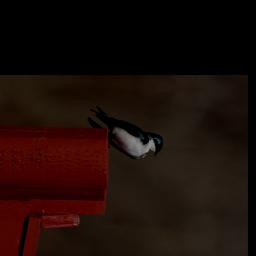Swallow: (86, 105, 166, 162)
